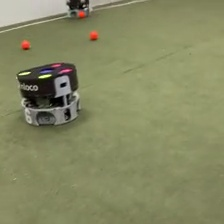ball: (89, 30, 99, 40), (21, 40, 31, 49), (78, 10, 85, 18)
robot: (14, 60, 82, 127), (65, 1, 89, 20)
